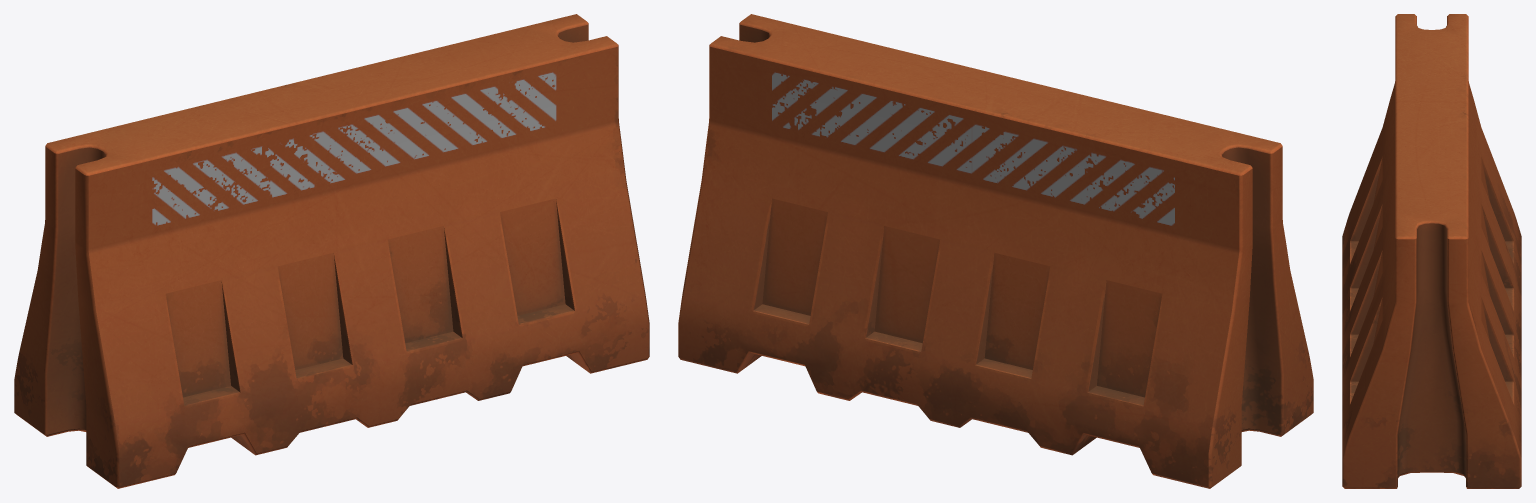
File: SM_ShuiMa.glb
3 renders of one model, left to right at view 1: azimuth 30°, elevation 25°; view 2: azimuth 150°, elevation 25°; view 3: azimuth 270°, elevation 25°, orthographic. The views are drawn at different scales.
Parts seen in each view (by area): view 1: SM_ShuiMa; view 2: SM_ShuiMa; view 3: SM_ShuiMa.
Boxes of the visible parts, x1,y1,x2,y2 form: SM_ShuiMa: [14, 14, 649, 488]; SM_ShuiMa: [678, 14, 1313, 488]; SM_ShuiMa: [1342, 14, 1521, 488].
Bounding box in the file's own units: 1.76 × 0.9253 × 0.594.
Materials: 1 (1 with a texture image).
